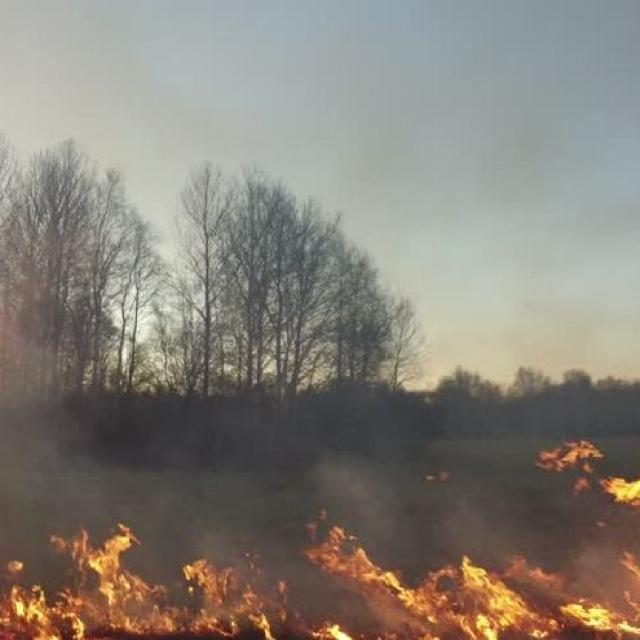Fire: (0, 498, 628, 630)
Smoke: (1, 320, 118, 482)
